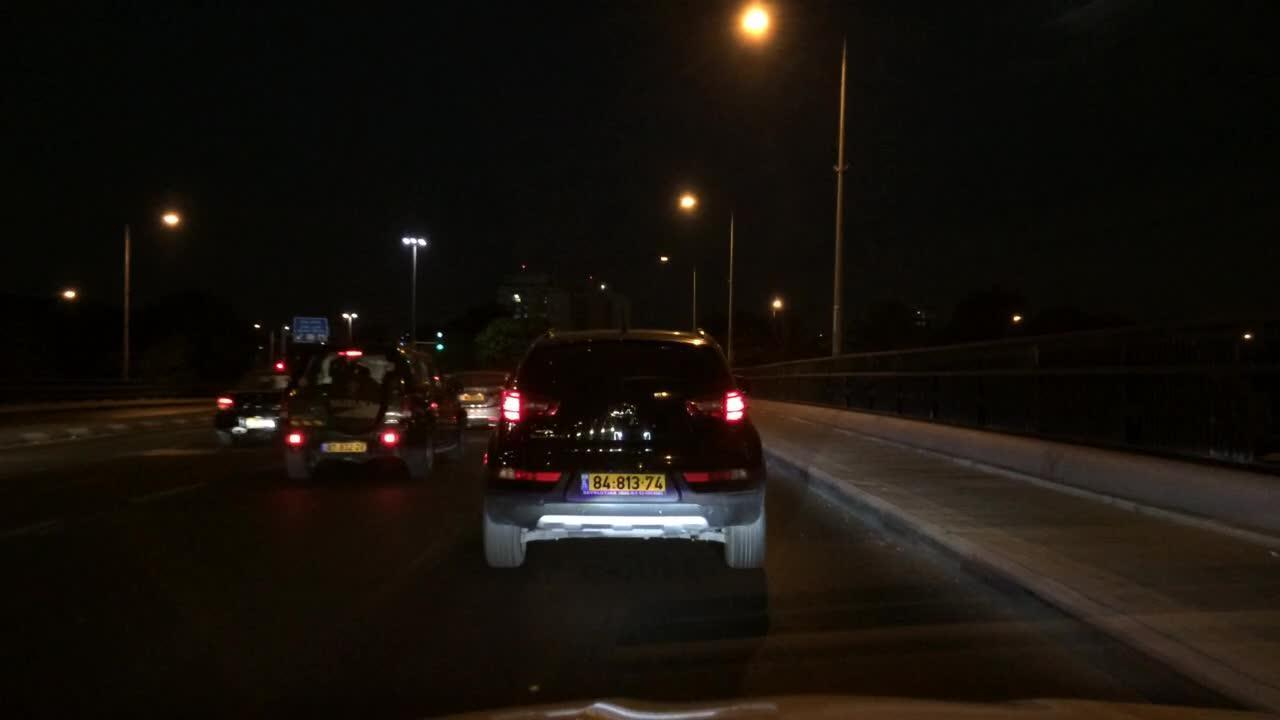kia: (603, 398, 642, 421)
